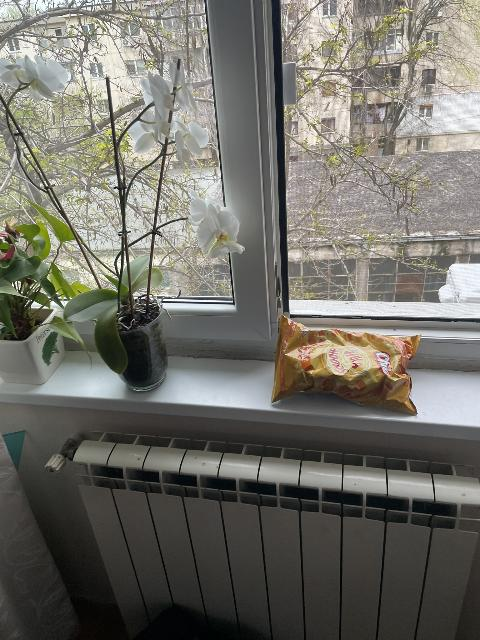Chio Hula Hoops Cheese 70g: (271, 316, 413, 412)
